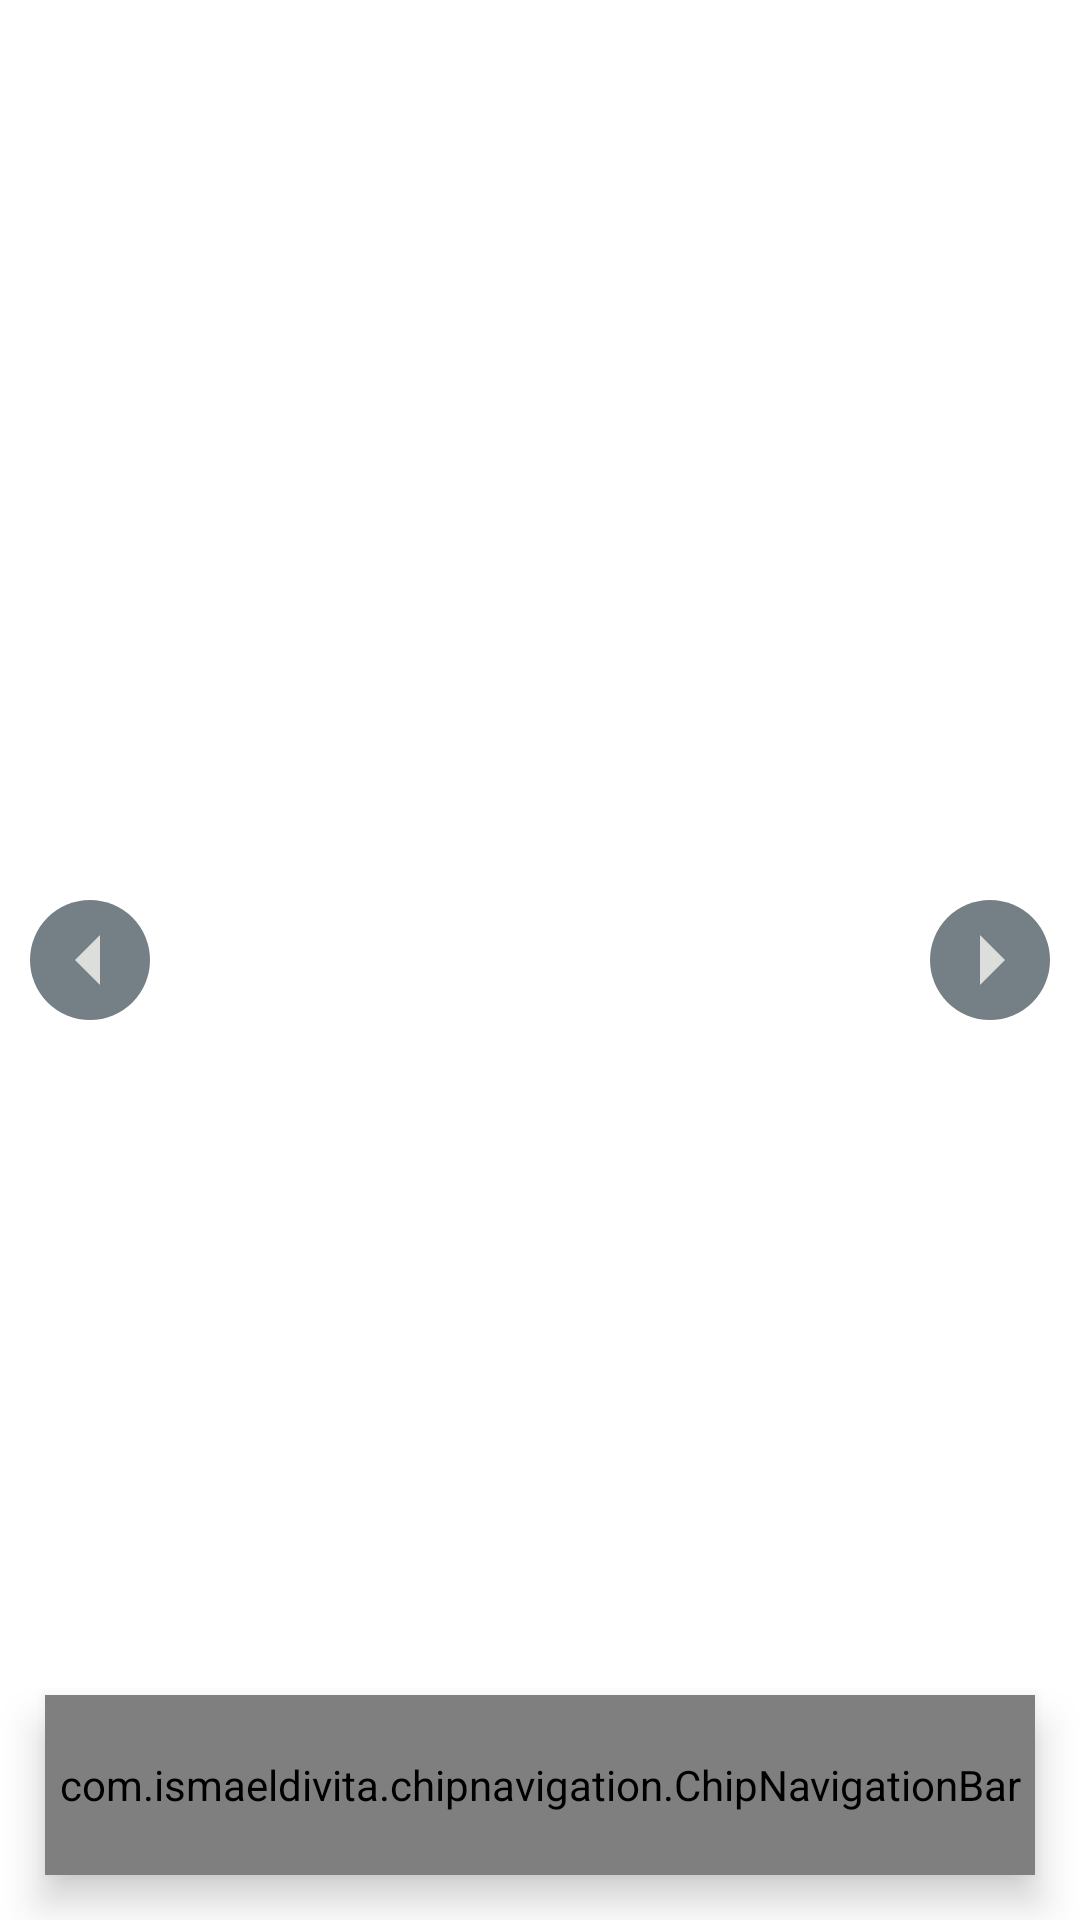

Screen size 1080w x 1920h. Icon name, then its box in pixels as {"x1": x1, "y1": y1, "x2": x2, "y2": y2}:
next: {"x1": 930, "y1": 900, "x2": 1050, "y2": 1020}
prev: {"x1": 30, "y1": 900, "x2": 150, "y2": 1020}
